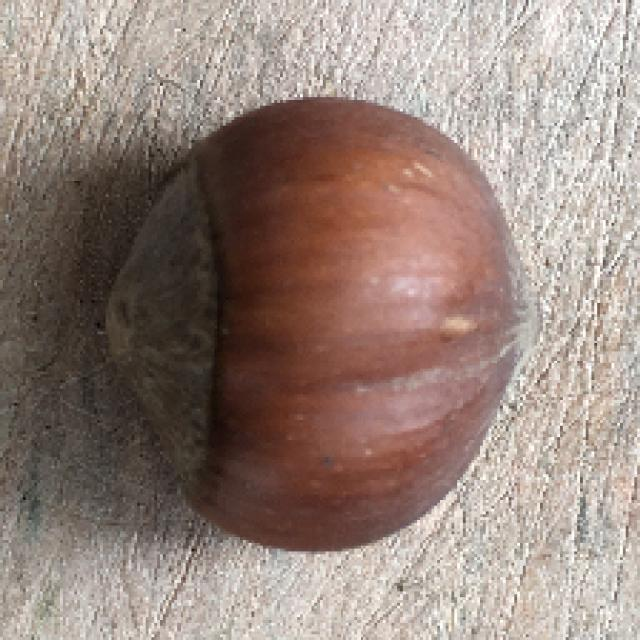DamagedHazelnut: (100, 97, 545, 551)
